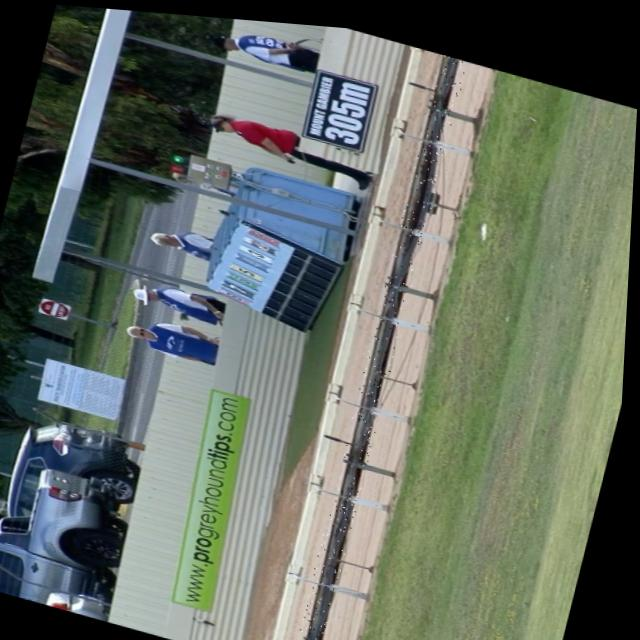rail: (311, 47, 460, 640)
